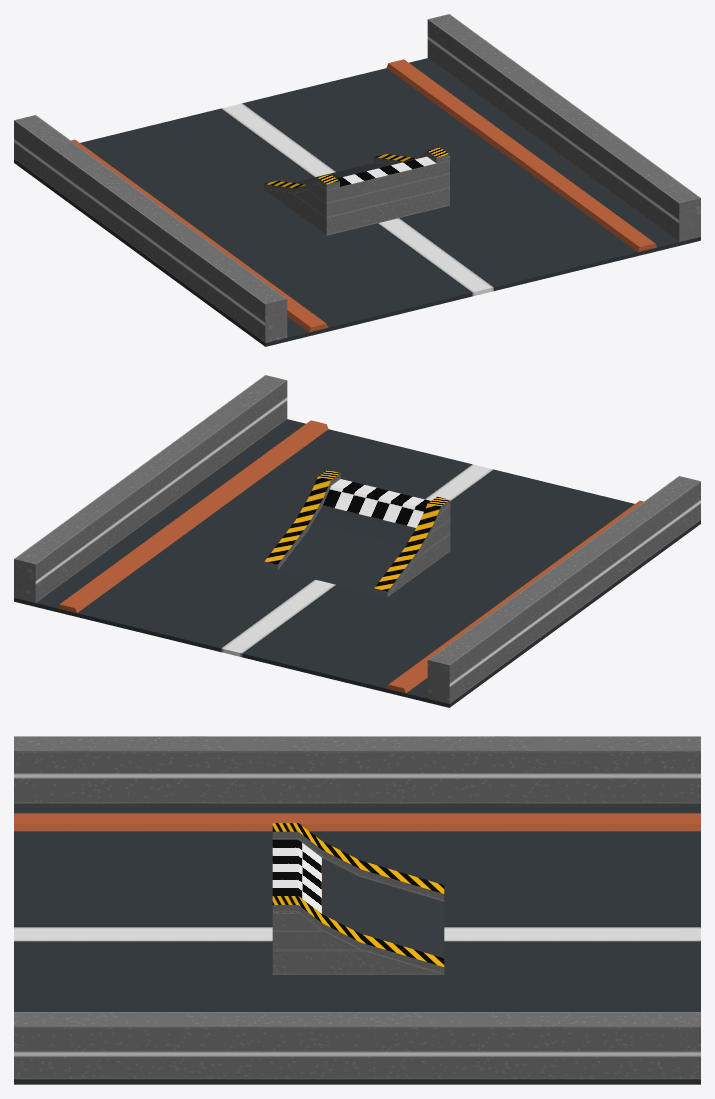
File: kartkids_base_trk_480_jmp_01_short_25pct_1x1.gltf
3 views of the same model, one above another, from view 1: azimuth 30°, elevation 25°; view 2: azimuth 150°, elevation 25°; view 3: azimuth 270°, elevation 25° (orthographic). The views are drawn at different scales.
Visible parts, largest first — view 1: kartkids_base_trk_480_jmp_01_short_25pct_1x1.002, kartkids_base_trk_480_jmp_01_short_25pct_1x1, kartkids_base_trk_480_jmp_01_short_25pct_1x1.001; view 2: kartkids_base_trk_480_jmp_01_short_25pct_1x1.002, kartkids_base_trk_480_jmp_01_short_25pct_1x1, kartkids_base_trk_480_jmp_01_short_25pct_1x1.001; view 3: kartkids_base_trk_480_jmp_01_short_25pct_1x1.002, kartkids_base_trk_480_jmp_01_short_25pct_1x1, kartkids_base_trk_480_jmp_01_short_25pct_1x1.001.
Part boxes in pixels (x1,y1,x2,y2): kartkids_base_trk_480_jmp_01_short_25pct_1x1.002: (14,58,700,346); kartkids_base_trk_480_jmp_01_short_25pct_1x1: (14,14,700,342); kartkids_base_trk_480_jmp_01_short_25pct_1x1.001: (264,147,449,235); kartkids_base_trk_480_jmp_01_short_25pct_1x1.002: (14,419,700,707); kartkids_base_trk_480_jmp_01_short_25pct_1x1: (14,375,700,703); kartkids_base_trk_480_jmp_01_short_25pct_1x1.001: (264,470,450,597); kartkids_base_trk_480_jmp_01_short_25pct_1x1.002: (14,803,700,1084); kartkids_base_trk_480_jmp_01_short_25pct_1x1: (14,736,700,1079); kartkids_base_trk_480_jmp_01_short_25pct_1x1.001: (272,823,444,974).
Size of the model in its own units: 10 by 1.21 by 10.
2 materials, 2 textured.
